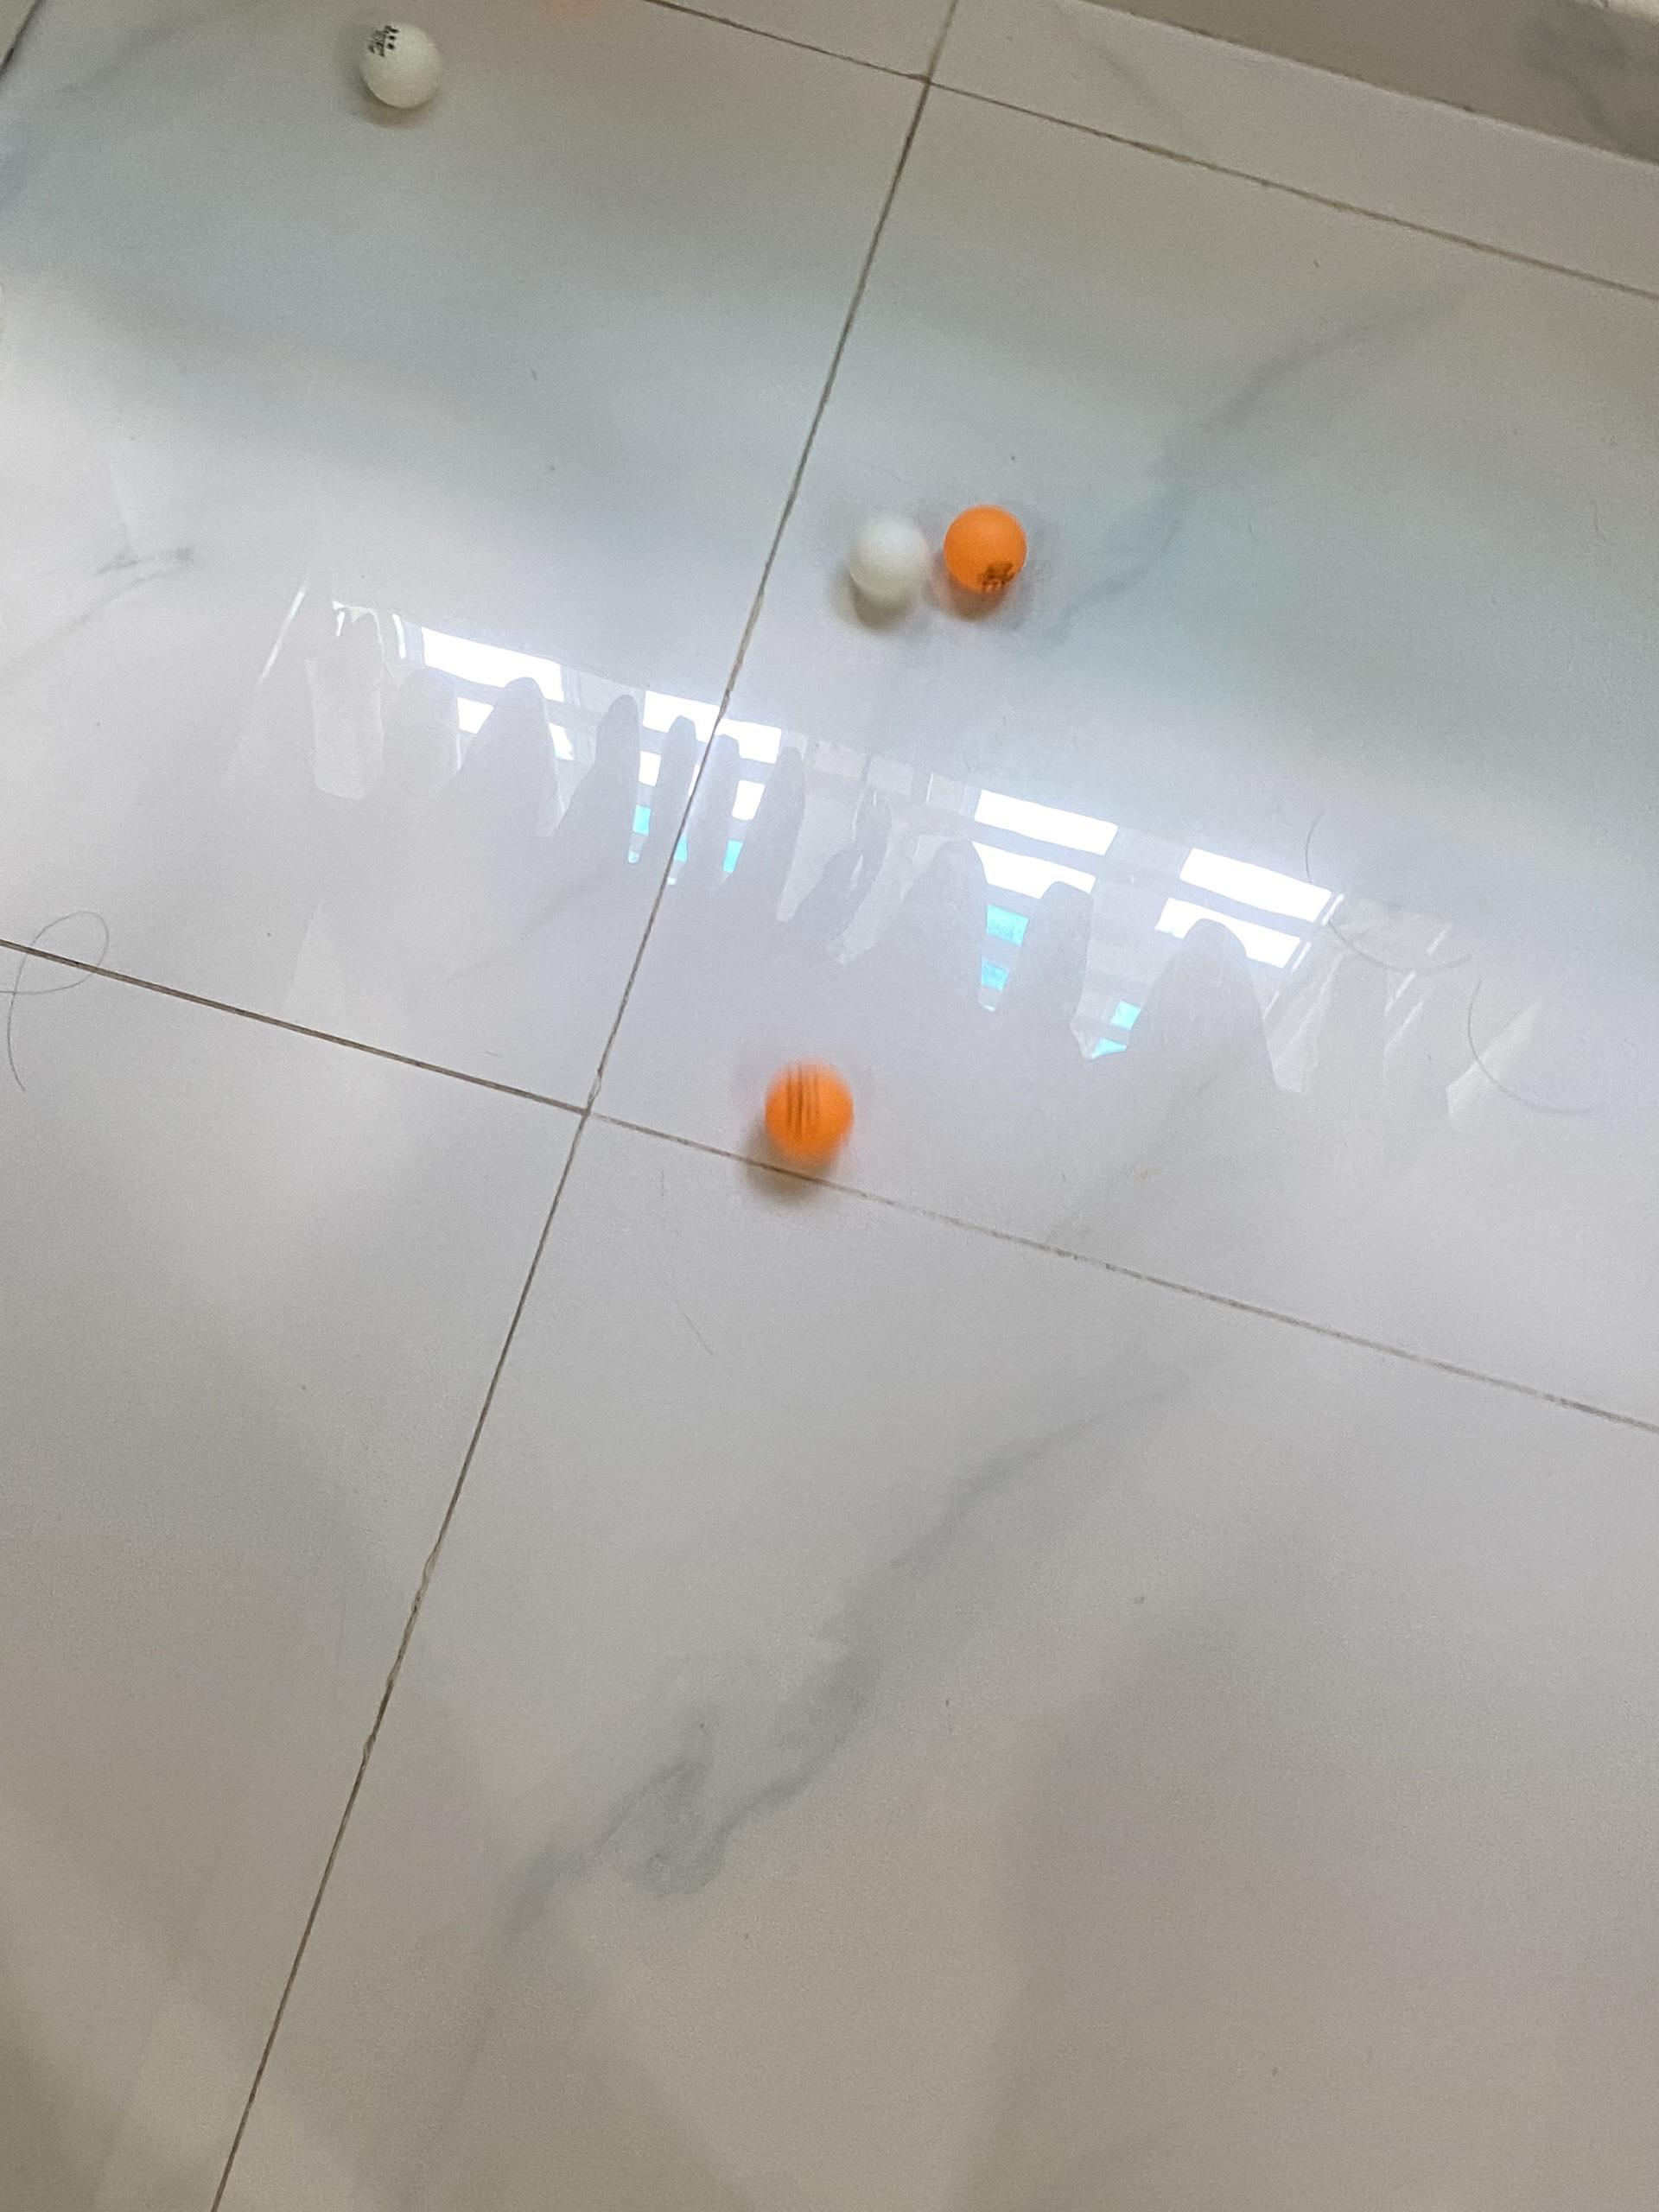oball: (769, 1054, 859, 1169), (941, 502, 1032, 599), (847, 510, 936, 604), (362, 23, 446, 106)
